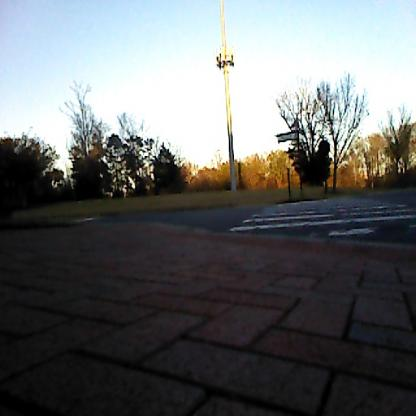Sidewalk: (0, 220, 416, 416)
